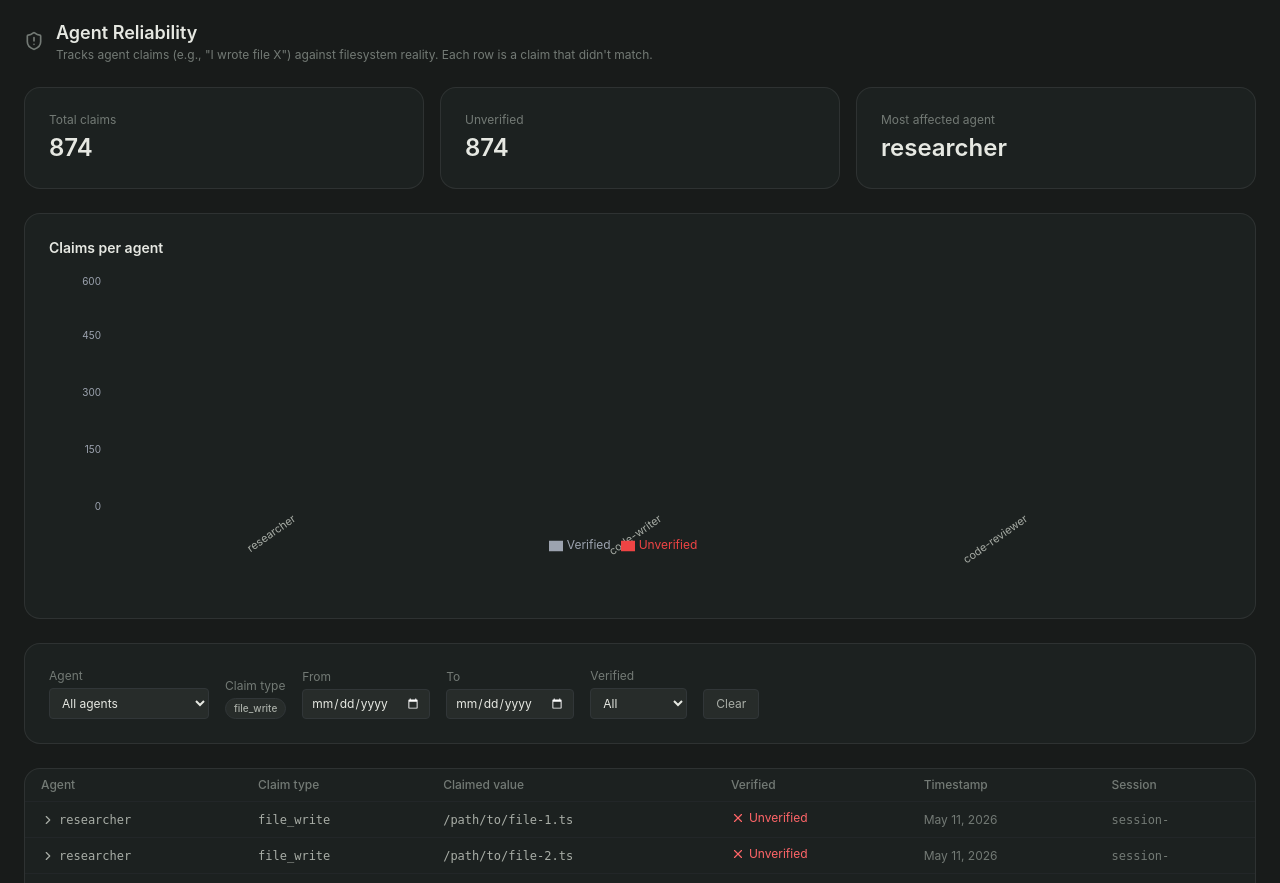
it: AgentReliabilityPage › expands a row when the expand button is clicked
Step 1. Click the button with aria-label "expand details for claim" → x=86, y=820, box [41,812,131,828]
(page scrolled)
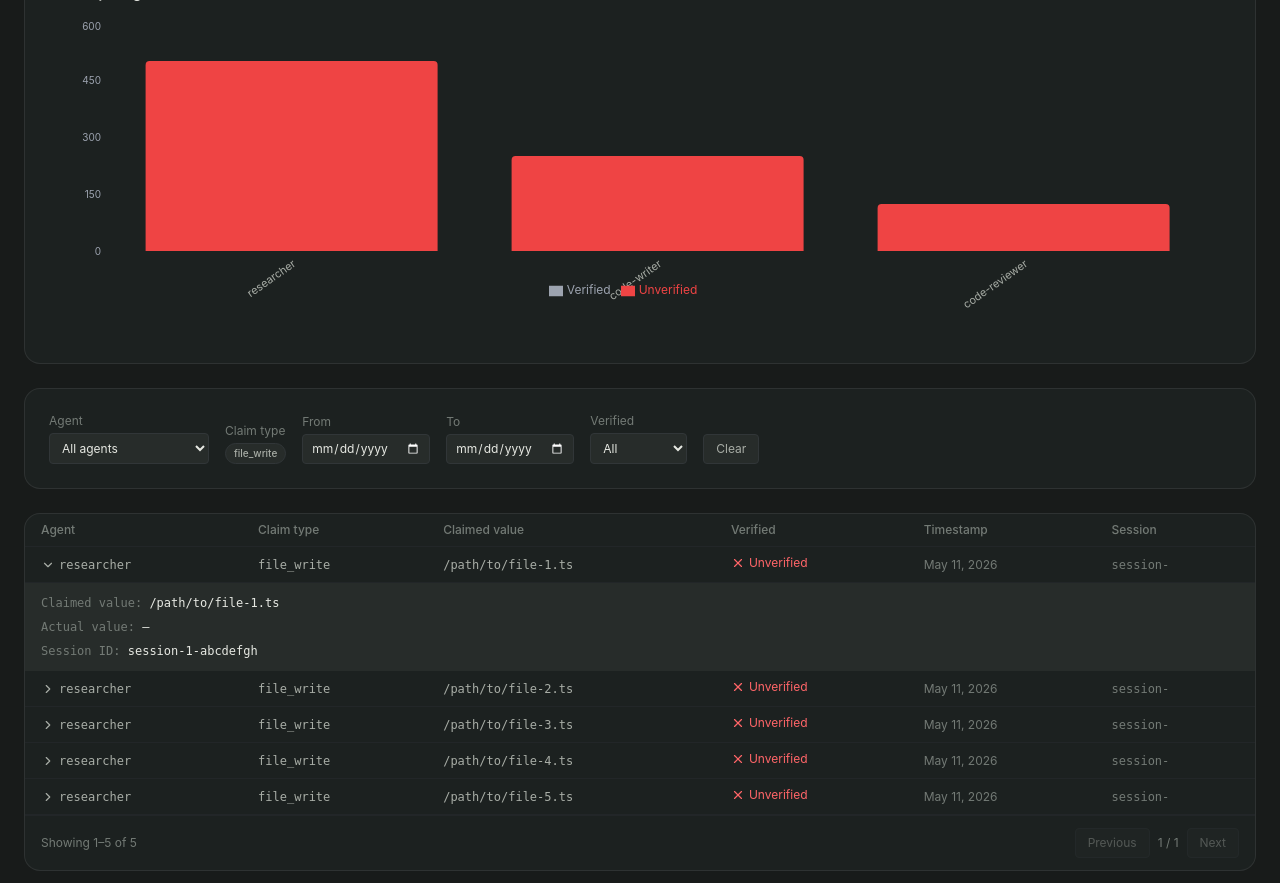
expect the element named "detail for hallucination claim 1" is shown: met, box [41,596,279,658]
expect the element named "detail for hallucination claim 1" shows "/path/to/file-1.ts": met, box [149,596,279,610]
